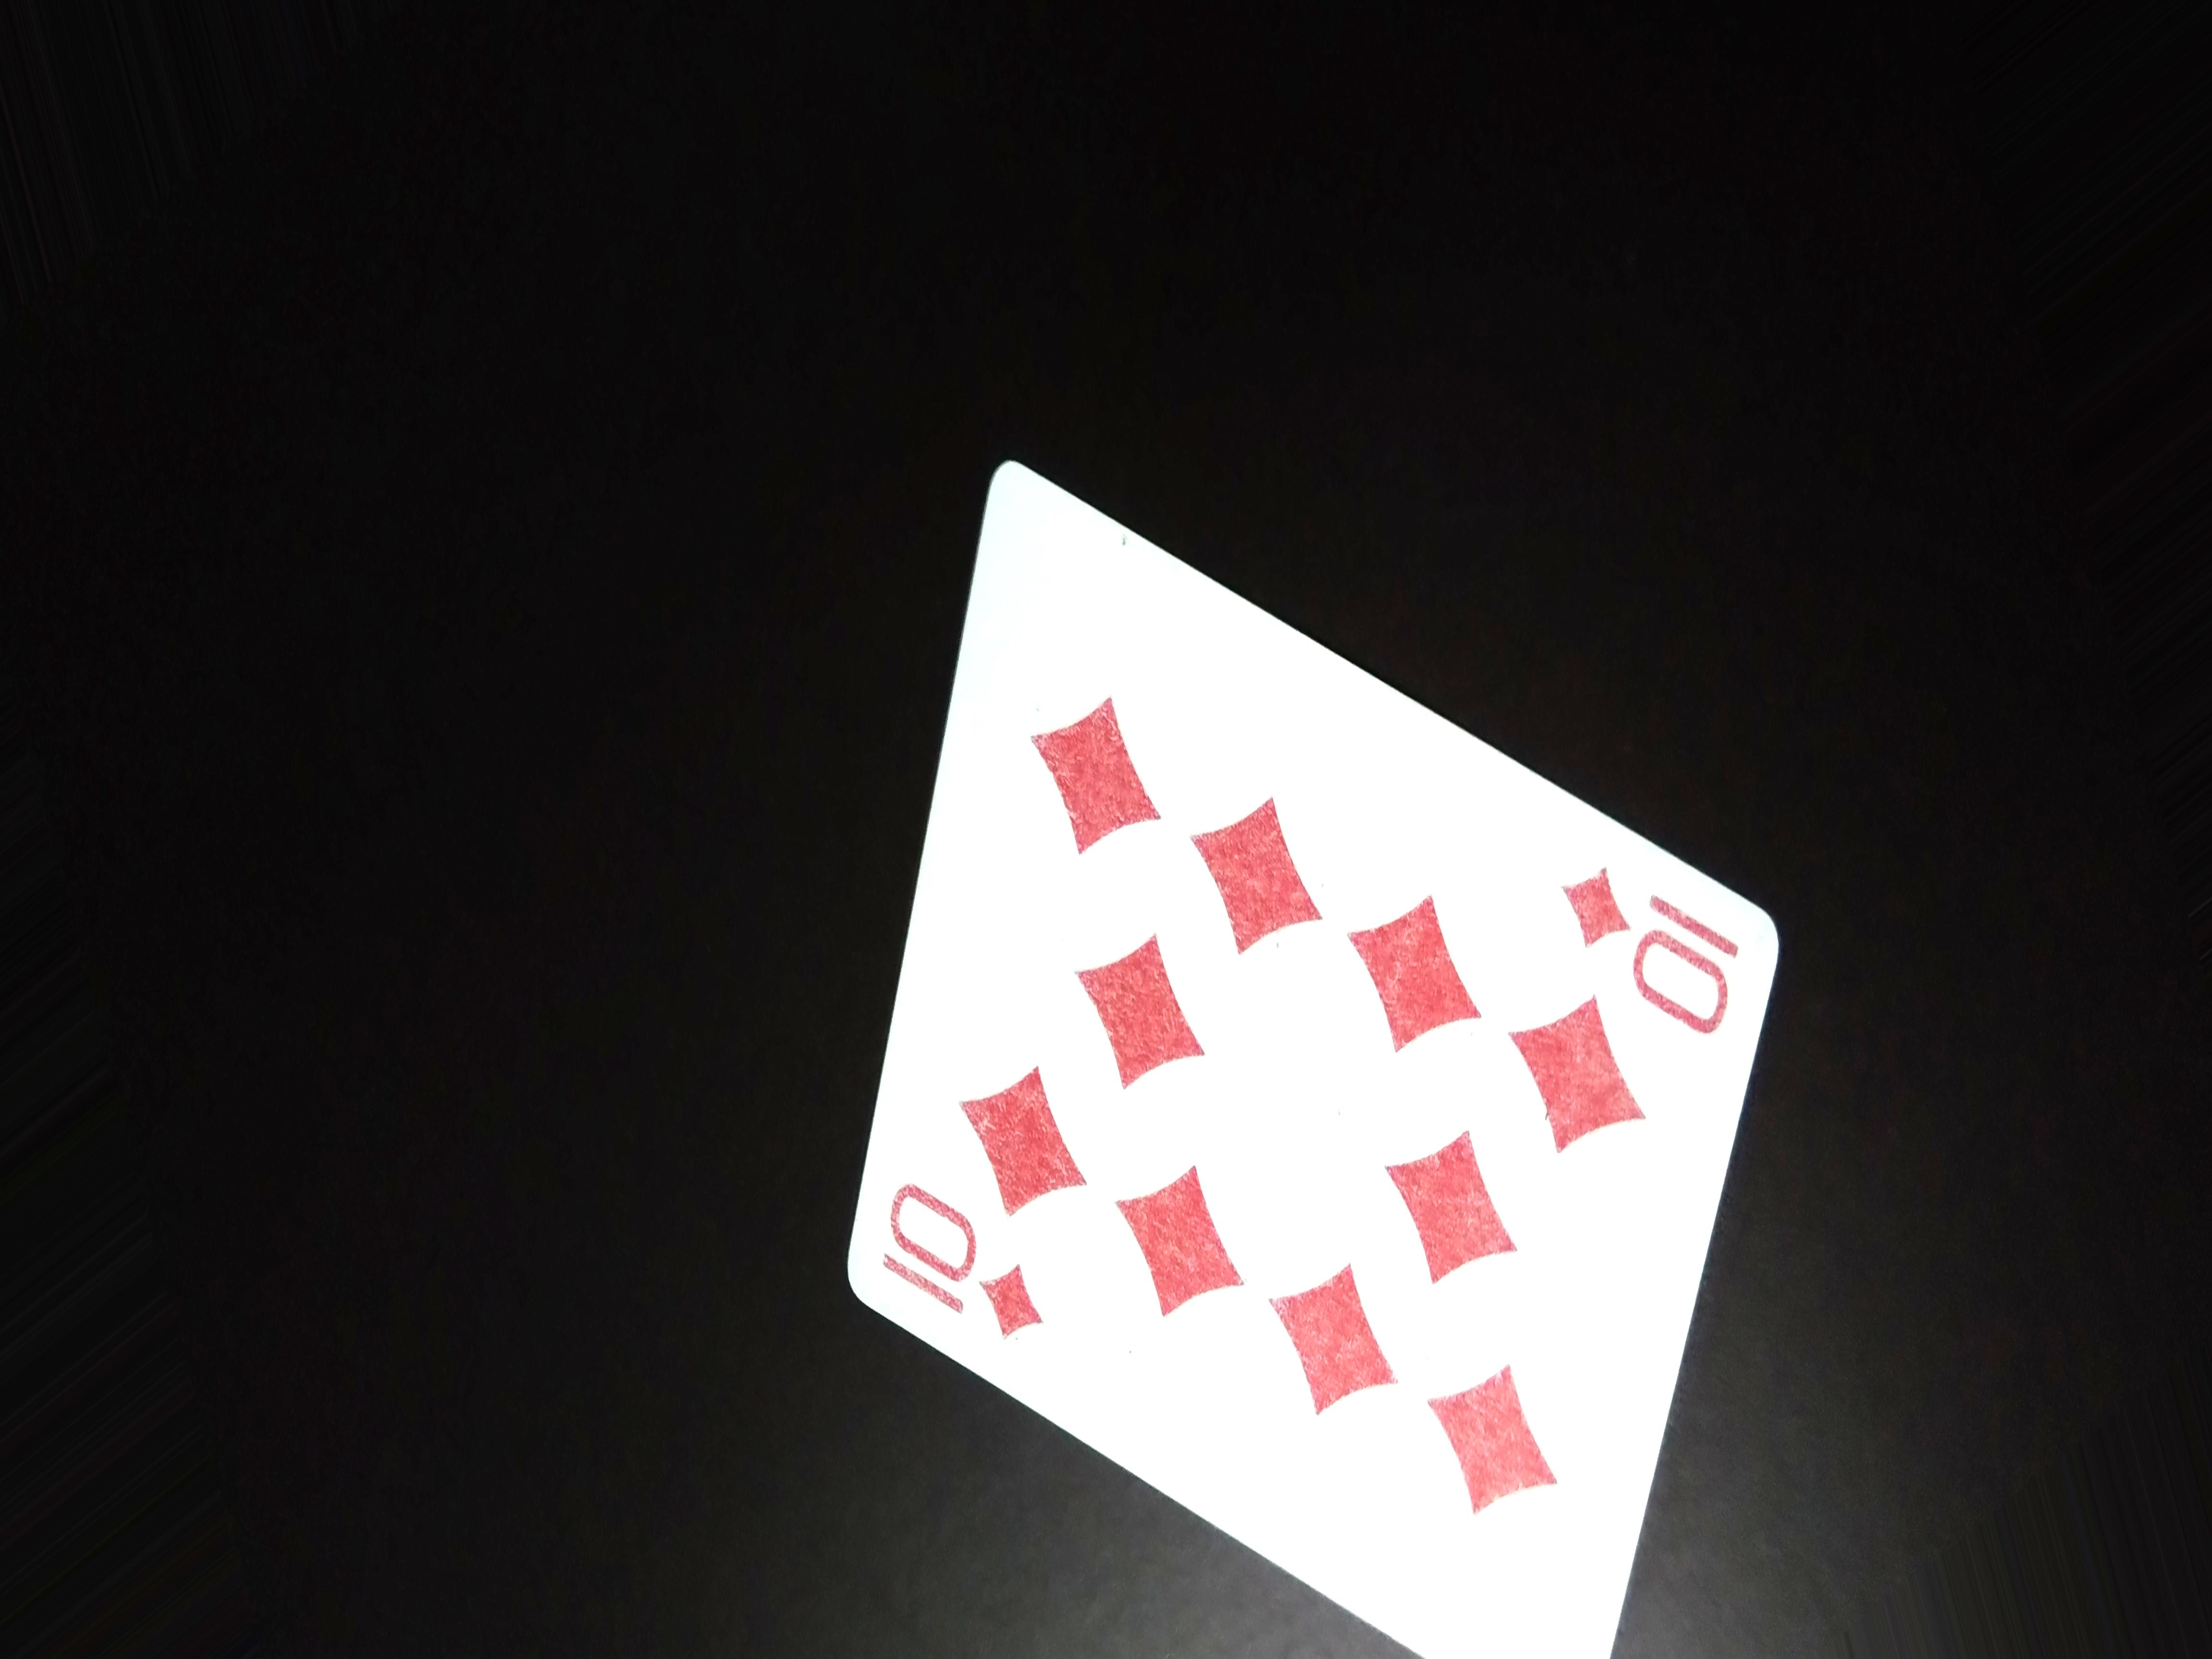10D: (1554, 861, 1763, 1044)
